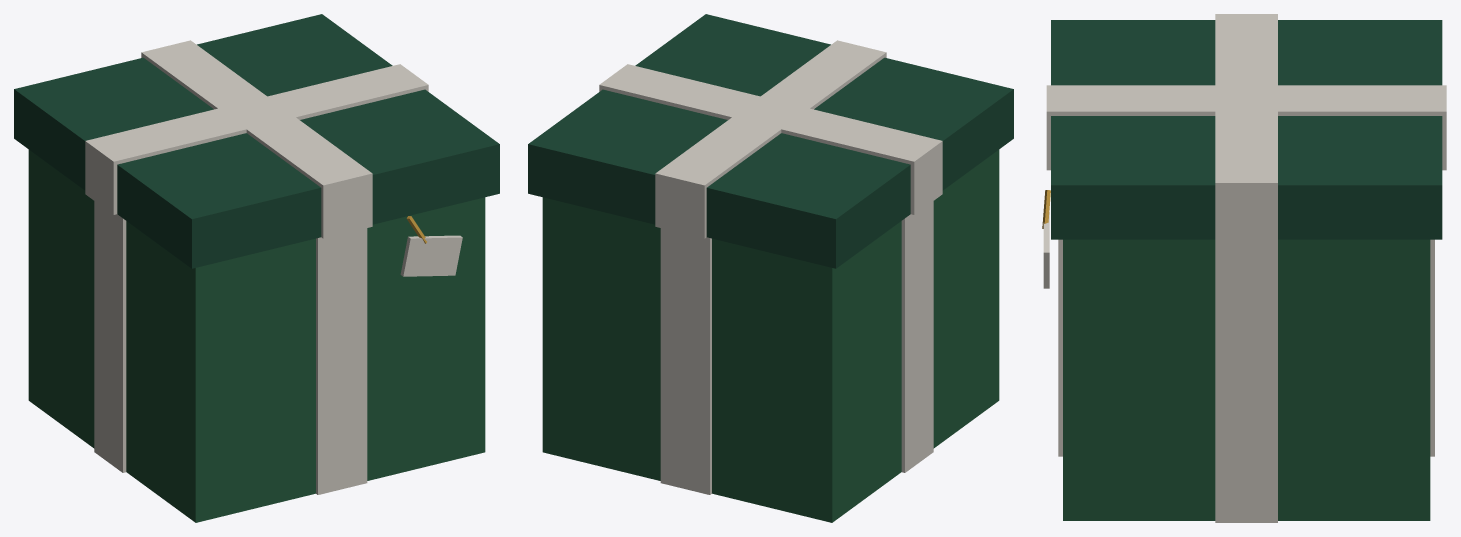
The model's file is gift-box-m.glb.
The picture shows the model from 3 angles, left to right: view 1: azimuth 30°, elevation 25°; view 2: azimuth 150°, elevation 25°; view 3: azimuth 270°, elevation 25°; orthographic projection. The views are drawn at different scales.
Visible parts, largest first — view 1: gift-box-m; view 2: gift-box-m; view 3: gift-box-m.
Part boxes in pixels (x1,y1,x2,y2): gift-box-m: [14, 14, 499, 522]; gift-box-m: [528, 14, 1013, 522]; gift-box-m: [1042, 14, 1446, 522].
Size of the model in its own units: 0.532 by 0.506 by 0.5378.
